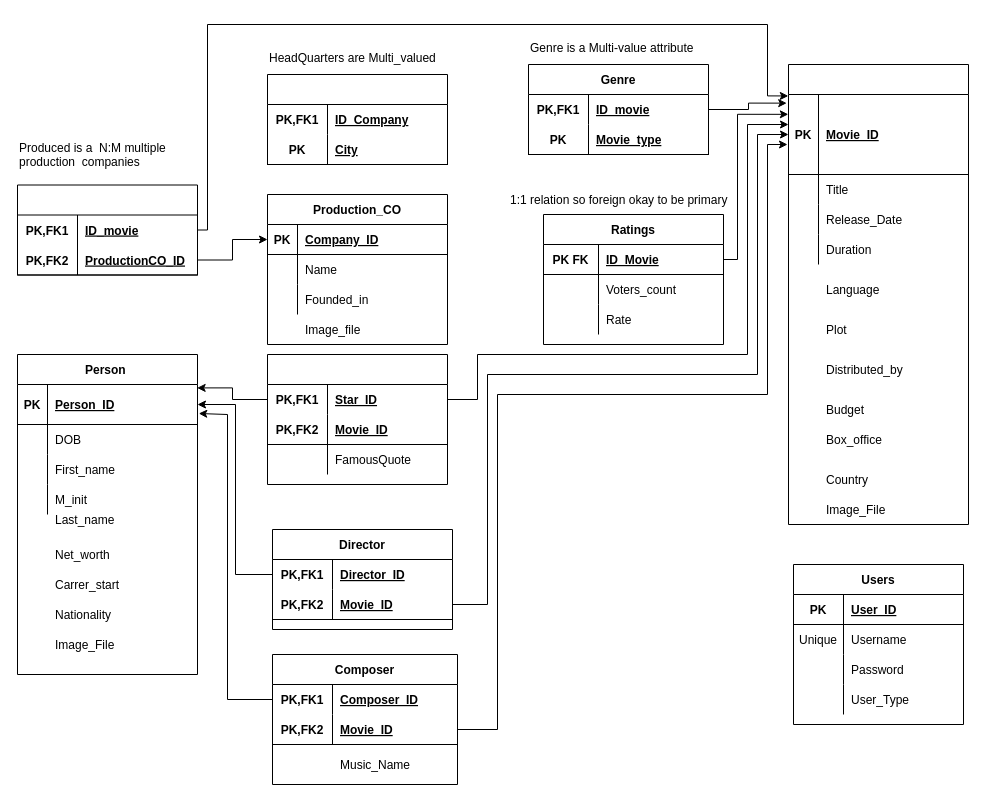
The diagram is 986 pixels wide and 802 high, and some of its shapes have lost their labels. Each missing label, with the box of its shape:
HeadQuarters: (266, 74, 448, 164)
Movie_star: (266, 354, 448, 484)
Movies: (788, 64, 968, 524)
Produced_by: (16, 184, 198, 275)
